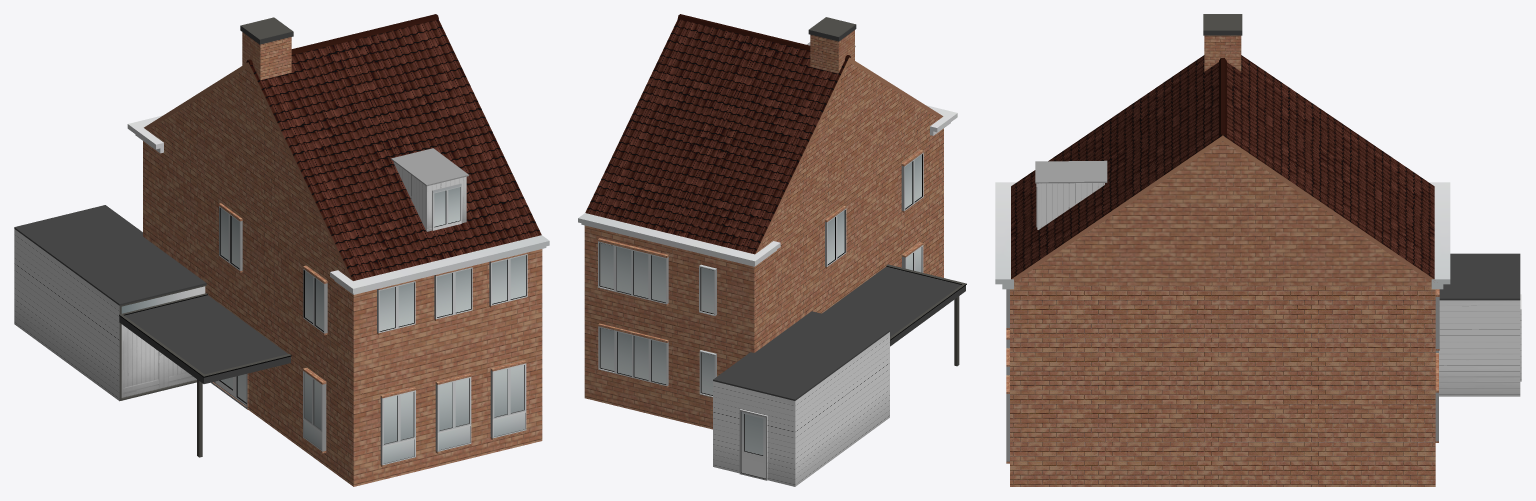
File: It_Uleboerd_79.fbx
3 views of the same model, side by side, from view 1: azimuth 30°, elevation 25°; view 2: azimuth 150°, elevation 25°; view 3: azimuth 270°, elevation 25° (orthographic). The views are drawn at different scales.
Parts seen in each view (by area): view 1: It_Uleboerd_79; view 2: It_Uleboerd_79; view 3: It_Uleboerd_79.
Part boxes in pixels (x1,y1,x2,y2): It_Uleboerd_79: (14, 14, 549, 486); It_Uleboerd_79: (578, 14, 966, 486); It_Uleboerd_79: (995, 14, 1521, 486).
Size of the model in its own units: 8.78 by 11.47 by 14.34.
